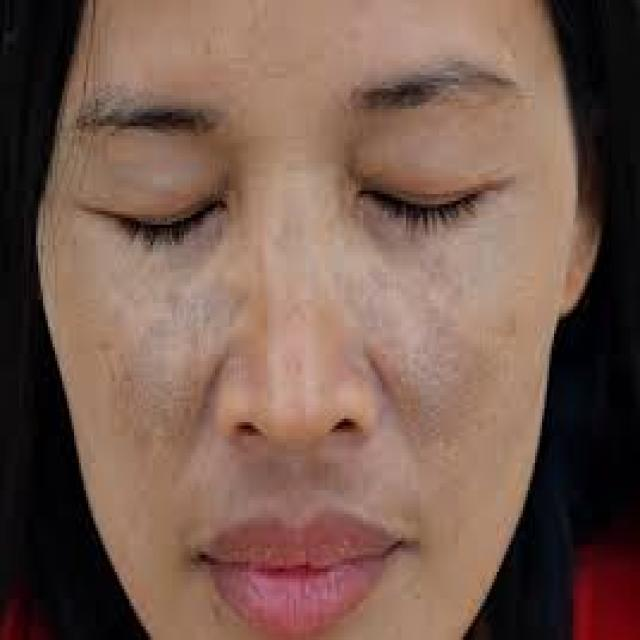pigmentation: (362, 297, 484, 425), (106, 298, 215, 421)
